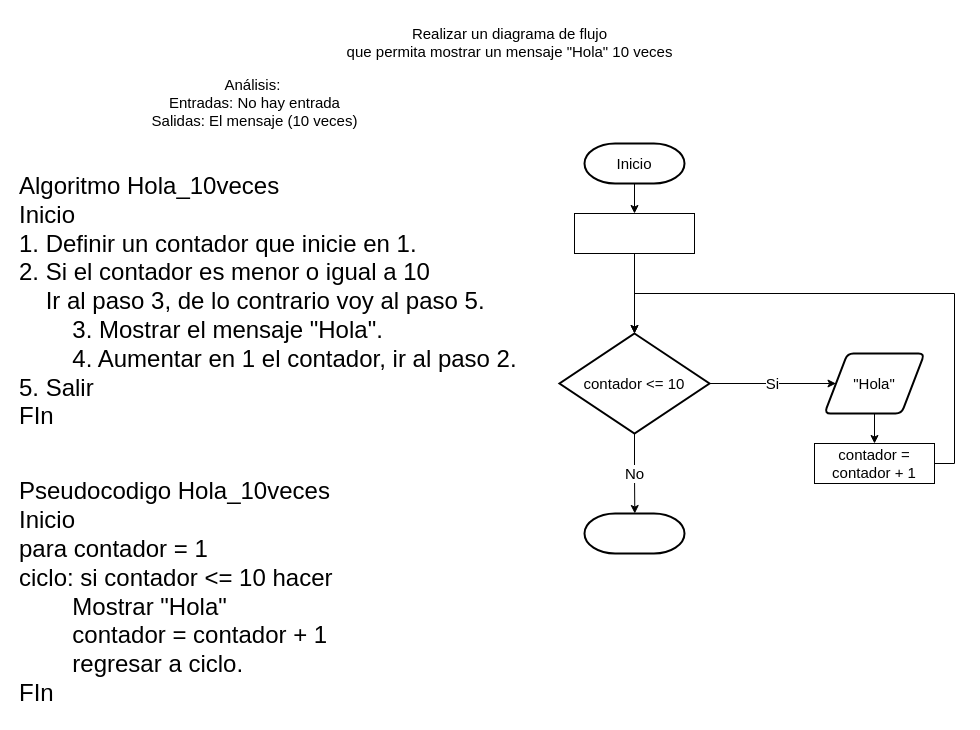
Some shapes in this 980 by 730 pixel diagram are drawn without their labels. Here are the shapes that lost their labels. From the top down, the centre of each, then its label:
At [634,233]: "contador = 1".
At [634,533]: "Fin".
